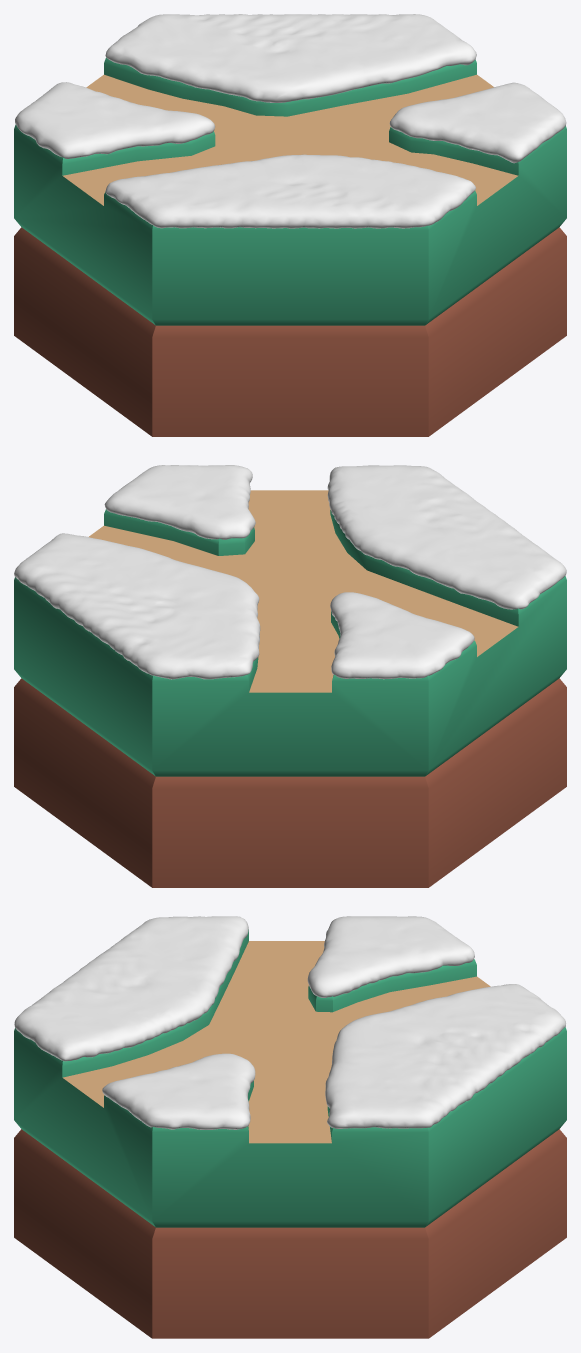
The model's file is snow_hex_forest_roadJ_detail.fbx.
3 renders of one model, top to bottom at view 1: azimuth 30°, elevation 25°; view 2: azimuth 150°, elevation 25°; view 3: azimuth 270°, elevation 25°, orthographic.
Visible parts, largest first — view 1: SnowBall.001, hex_forest_roadJ_detail.001, hex_forest_roadJ_detail.002, hex_forest_roadJ_detail; view 2: hex_forest_roadJ_detail.002, SnowBall.001, hex_forest_roadJ_detail.001, hex_forest_roadJ_detail; view 3: hex_forest_roadJ_detail.002, SnowBall.001, hex_forest_roadJ_detail.001, hex_forest_roadJ_detail.
Boxes of the visible parts, left/top/right/bottom form: SnowBall.001: left=15, top=14, right=566, bottom=228; hex_forest_roadJ_detail.001: left=14, top=57, right=566, bottom=325; hex_forest_roadJ_detail.002: left=14, top=227, right=566, bottom=436; hex_forest_roadJ_detail: left=62, top=74, right=518, bottom=205; hex_forest_roadJ_detail.002: left=14, top=678, right=566, bottom=887; SnowBall.001: left=14, top=465, right=566, bottom=679; hex_forest_roadJ_detail.001: left=14, top=509, right=566, bottom=776; hex_forest_roadJ_detail: left=89, top=490, right=518, bottom=692; hex_forest_roadJ_detail.002: left=14, top=1129, right=566, bottom=1338; SnowBall.001: left=14, top=916, right=565, bottom=1129; hex_forest_roadJ_detail.001: left=14, top=929, right=566, bottom=1227; hex_forest_roadJ_detail: left=63, top=941, right=490, bottom=1143.
Size of the model in its own units: 203 by 104 by 231.
